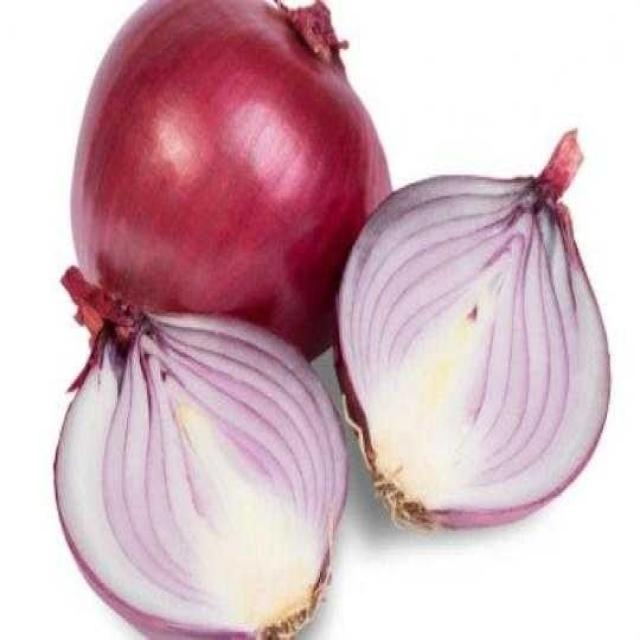Onion: (58, 0, 400, 367)
